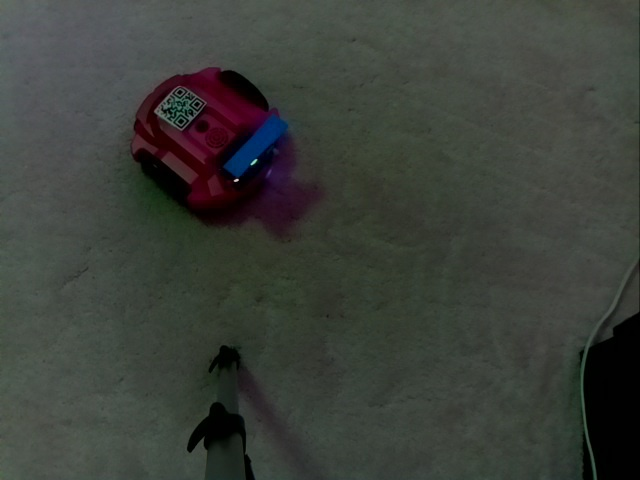board: (219, 105, 295, 184)
chassis: (120, 63, 289, 210)
